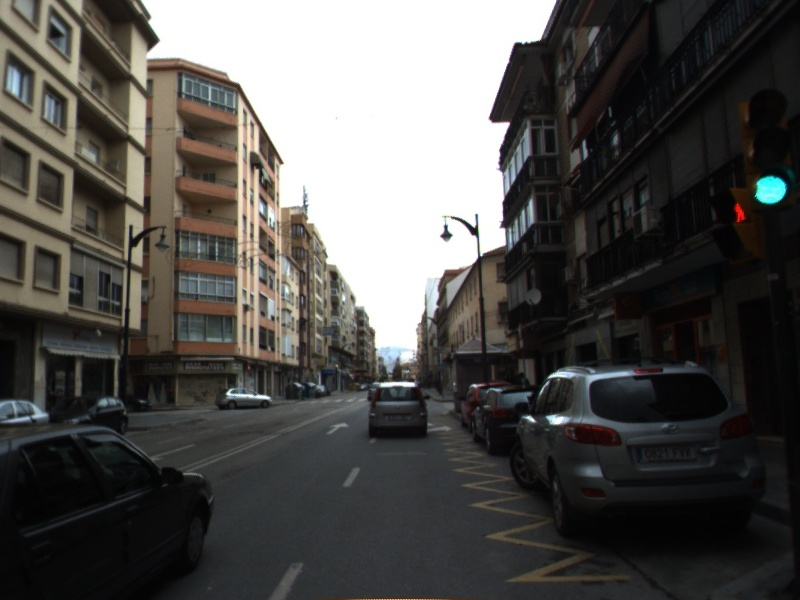STRAIGHT: (323, 420, 351, 436)
